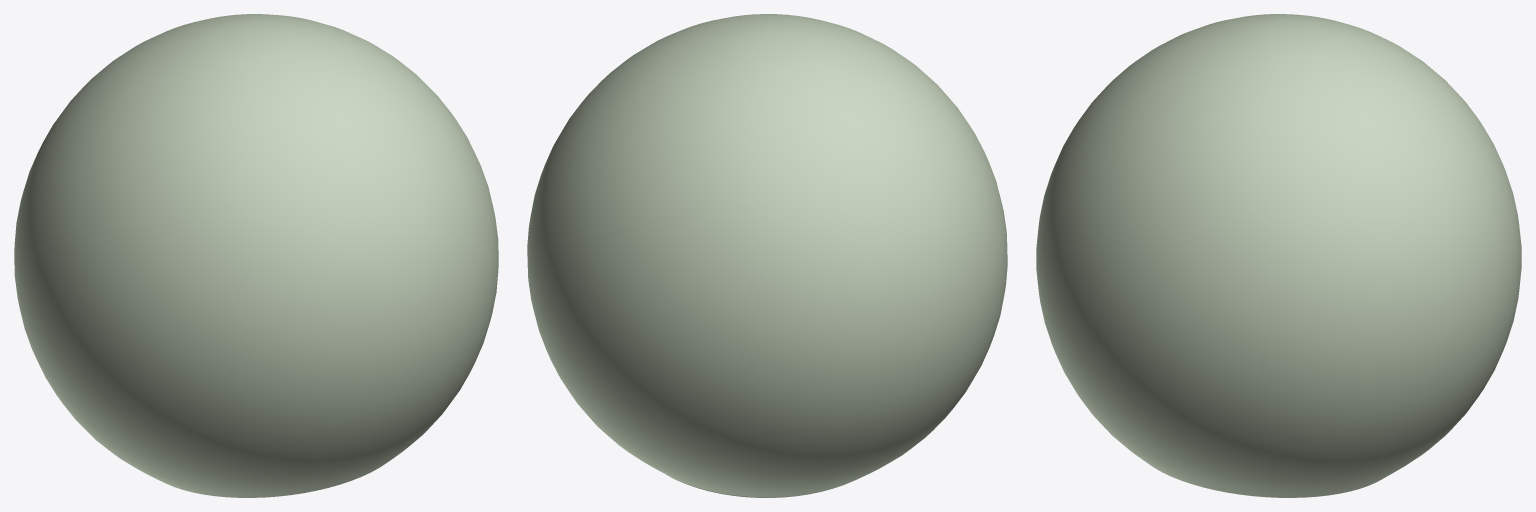
The picture shows the model from 3 angles, left to right: view 1: azimuth 30°, elevation 25°; view 2: azimuth 150°, elevation 25°; view 3: azimuth 270°, elevation 25°; orthographic projection.
Visible parts, largest first — view 1: 左侧巩膜; view 2: 左侧巩膜; view 3: 左侧巩膜.
Boxes of the visible parts, x1,y1,x2,y2 form: 左侧巩膜: (14, 14, 498, 497); 左侧巩膜: (527, 14, 1007, 497); 左侧巩膜: (1036, 14, 1521, 497).
Bounding box in the file's own units: 0.0387 × 0.0368 × 0.0387.
